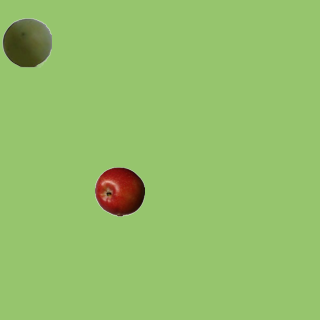Apple Braeburn: (94, 166, 144, 216)
Grape White 4: (1, 17, 51, 67)
